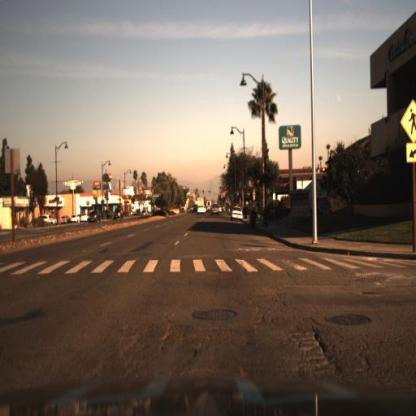car: (229, 204, 244, 223), (70, 212, 81, 224)
